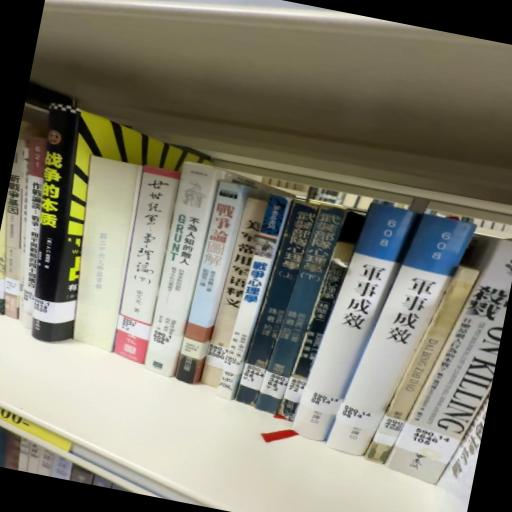backward: (58, 153, 151, 353)
book: (4, 105, 114, 344), (146, 161, 226, 380), (104, 169, 182, 370)
